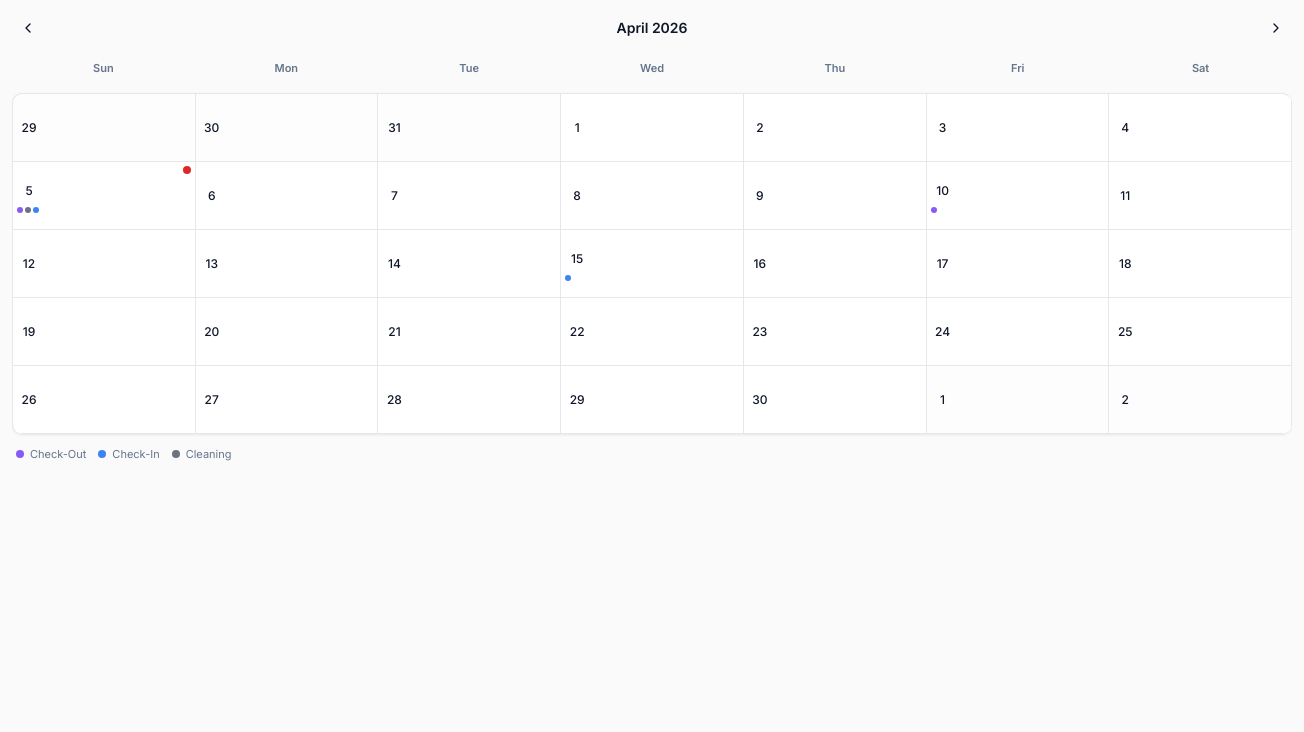
CalendarGrid — calendar view › hides detail panel when same day is clicked again
The image size is (1304, 732).
Click the button "5" at (104, 196), box [13,162,196,230]
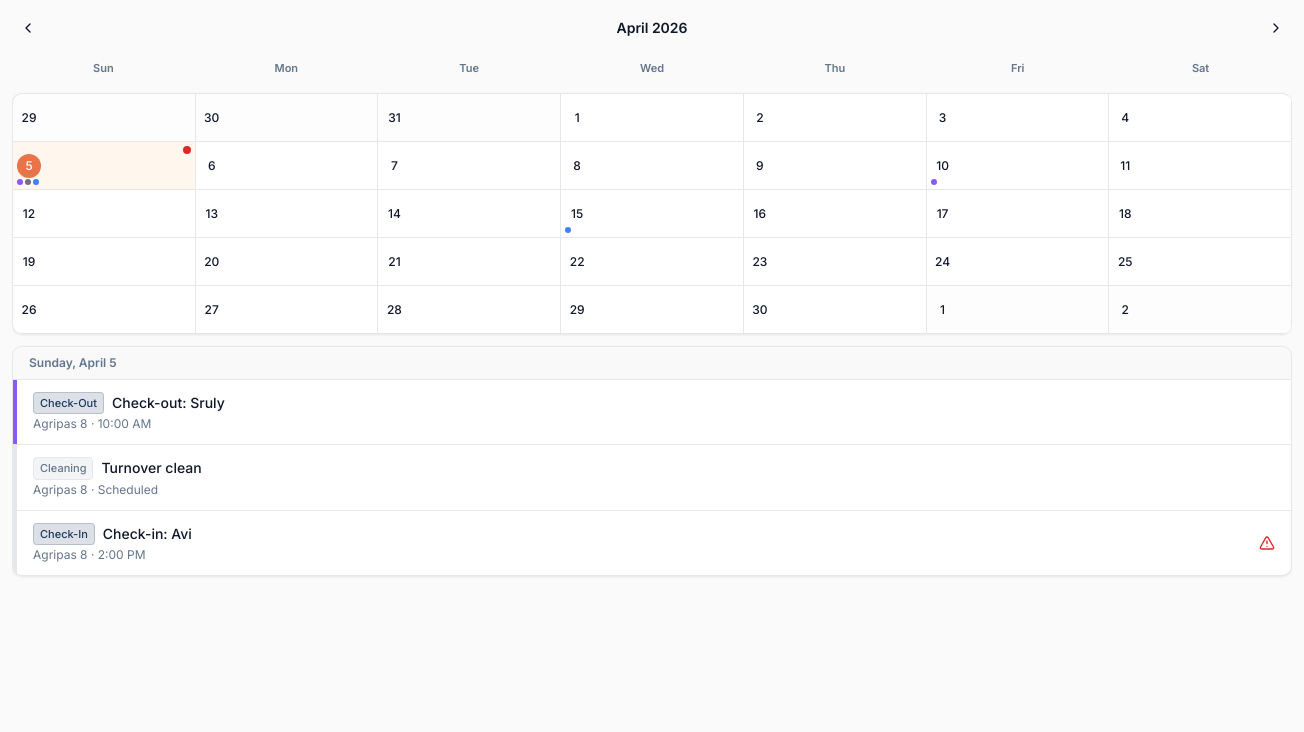
Expected: the text "Check-out: Sruly" is shown, [112,393,225,413]
Click the button "5" at (104, 166), box [13,142,196,190]
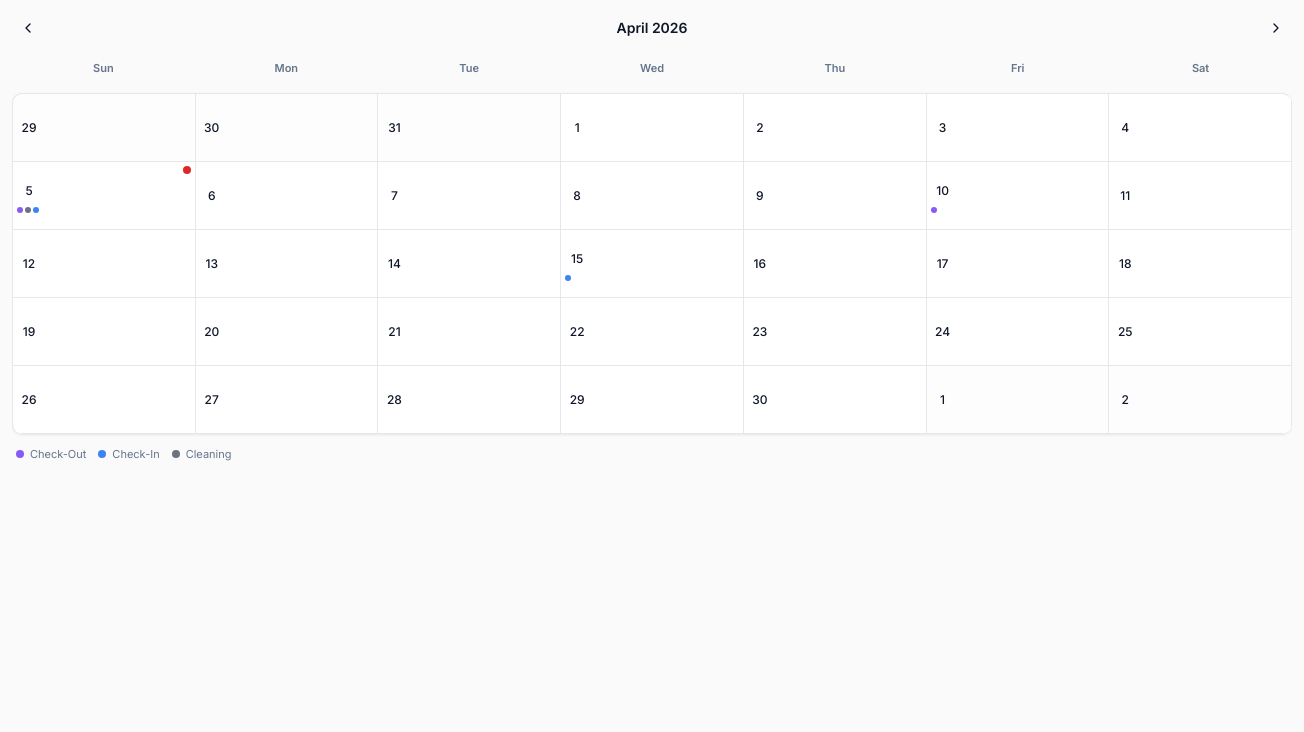
Expected: the text "Check-out: Sruly" is gone
